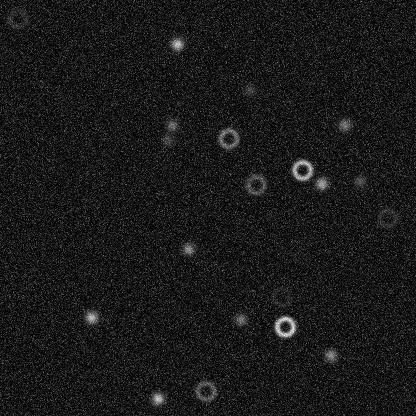Ring: (243, 172, 267, 196), (290, 157, 314, 181), (272, 314, 296, 338), (269, 284, 293, 308), (375, 205, 399, 229), (216, 126, 240, 150), (6, 6, 30, 30), (193, 379, 217, 403)
Spot: (159, 131, 175, 147), (241, 81, 257, 97), (313, 175, 329, 191), (164, 117, 180, 133), (336, 117, 352, 133), (83, 309, 99, 325), (232, 311, 248, 327), (149, 390, 165, 406), (351, 172, 367, 188), (169, 36, 185, 52), (180, 241, 196, 257), (322, 347, 338, 363)
